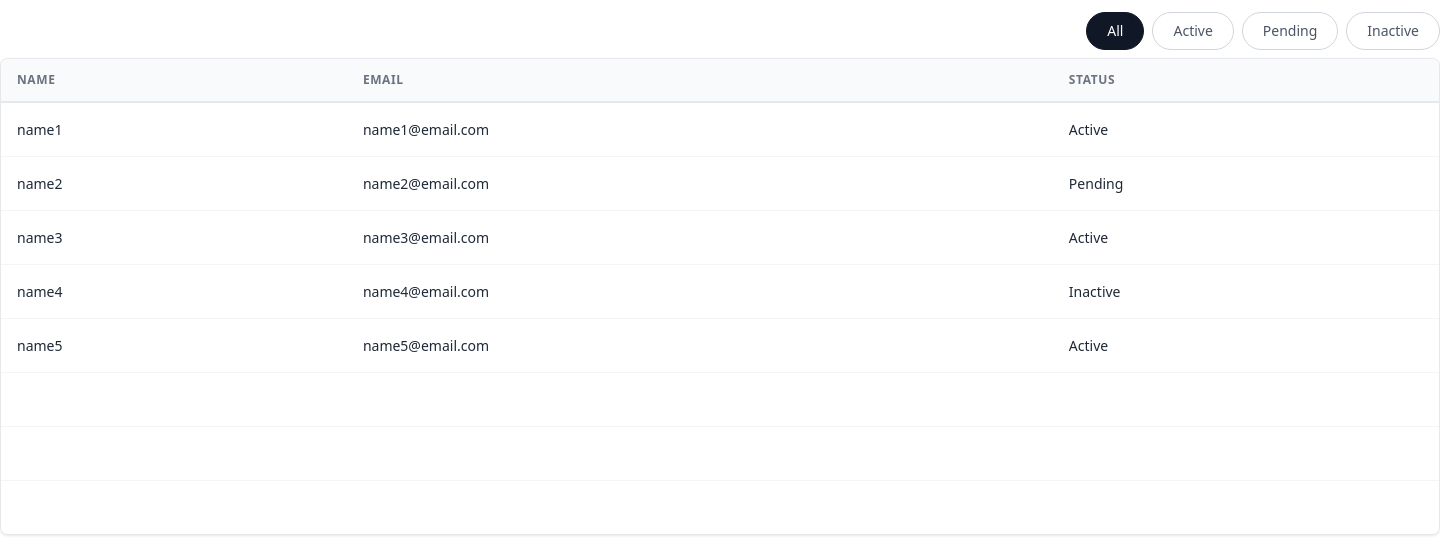
Test: Table Admin Component Tests › 26. checkbox tabs: deselecting a tab removes it from filter
select both tabs indiviudally
Click the button "Active": point(1193, 31) [1152,12,1234,50]
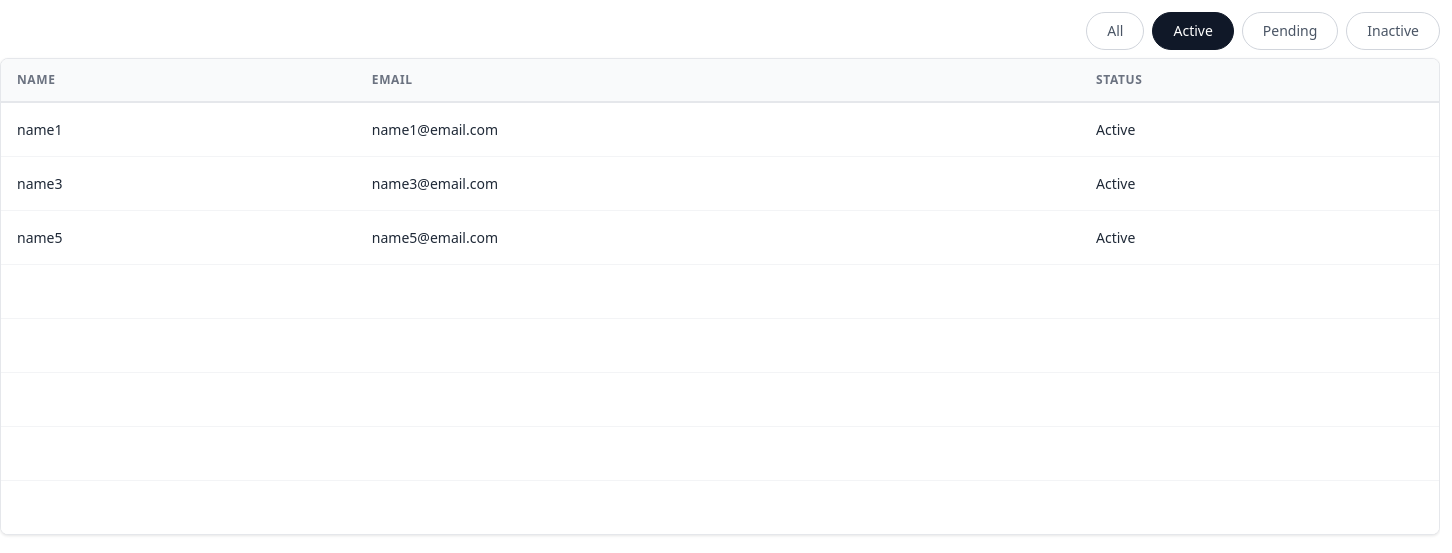
Click the button "Pending": point(1290, 31) [1242,12,1338,50]
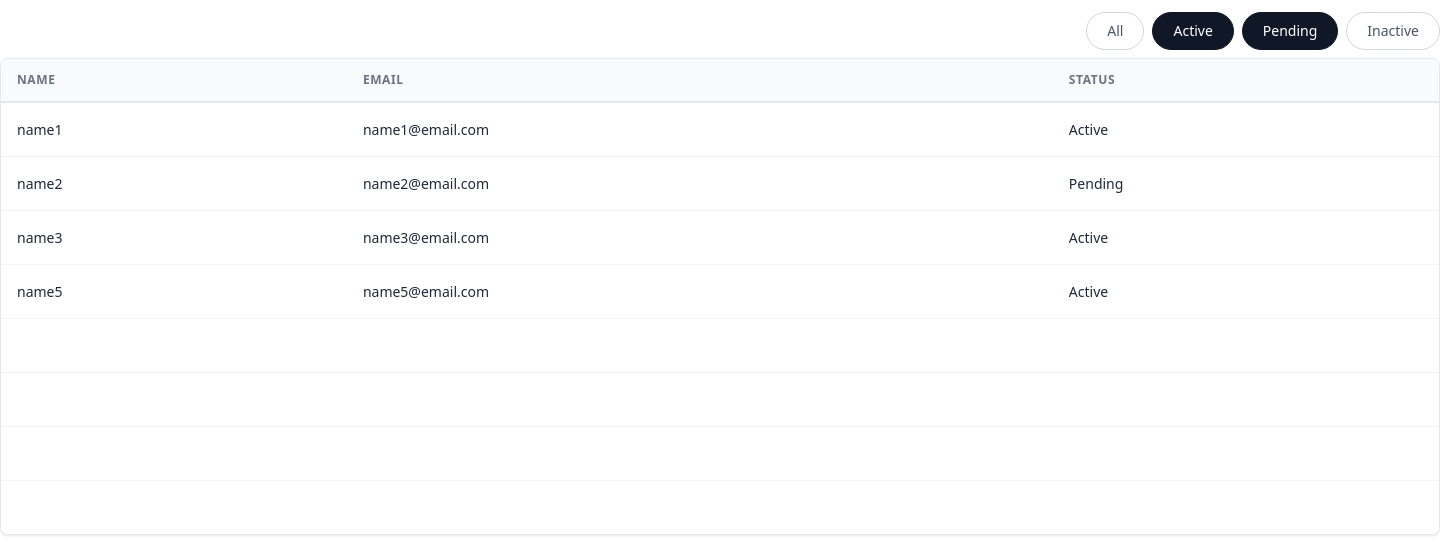
deselect active
Click the button "Active": point(1193, 31) [1152,12,1234,50]
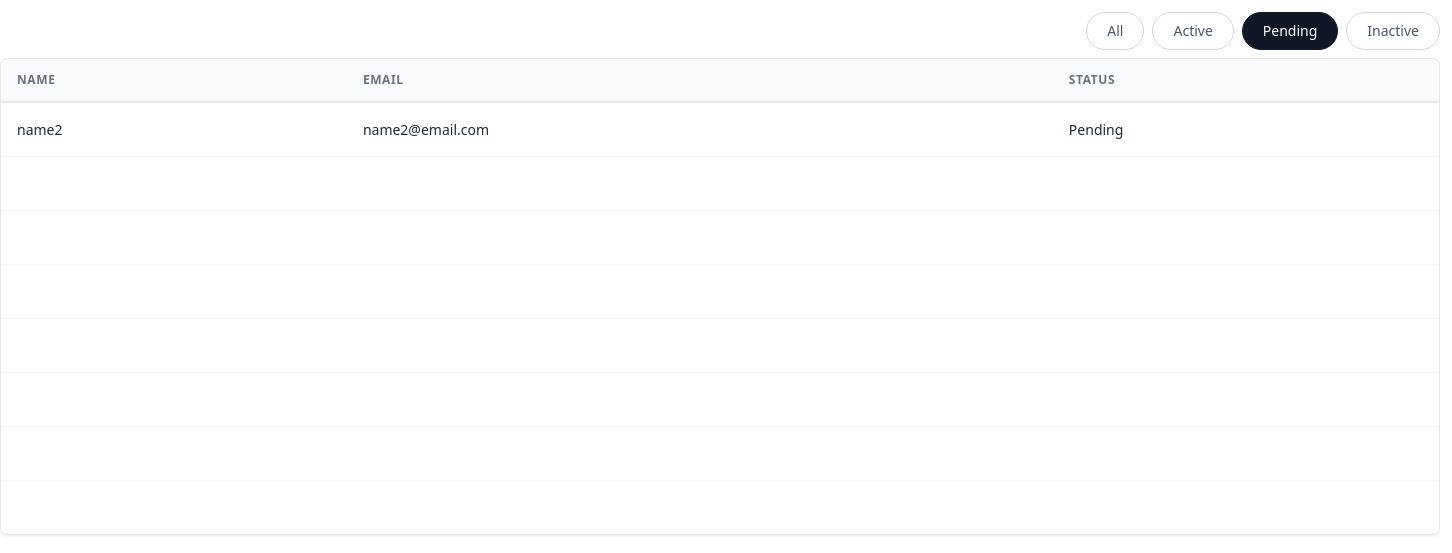
Result: the text "name2" is shown at [1,102,347,156]
Result: the text "name1" is gone
